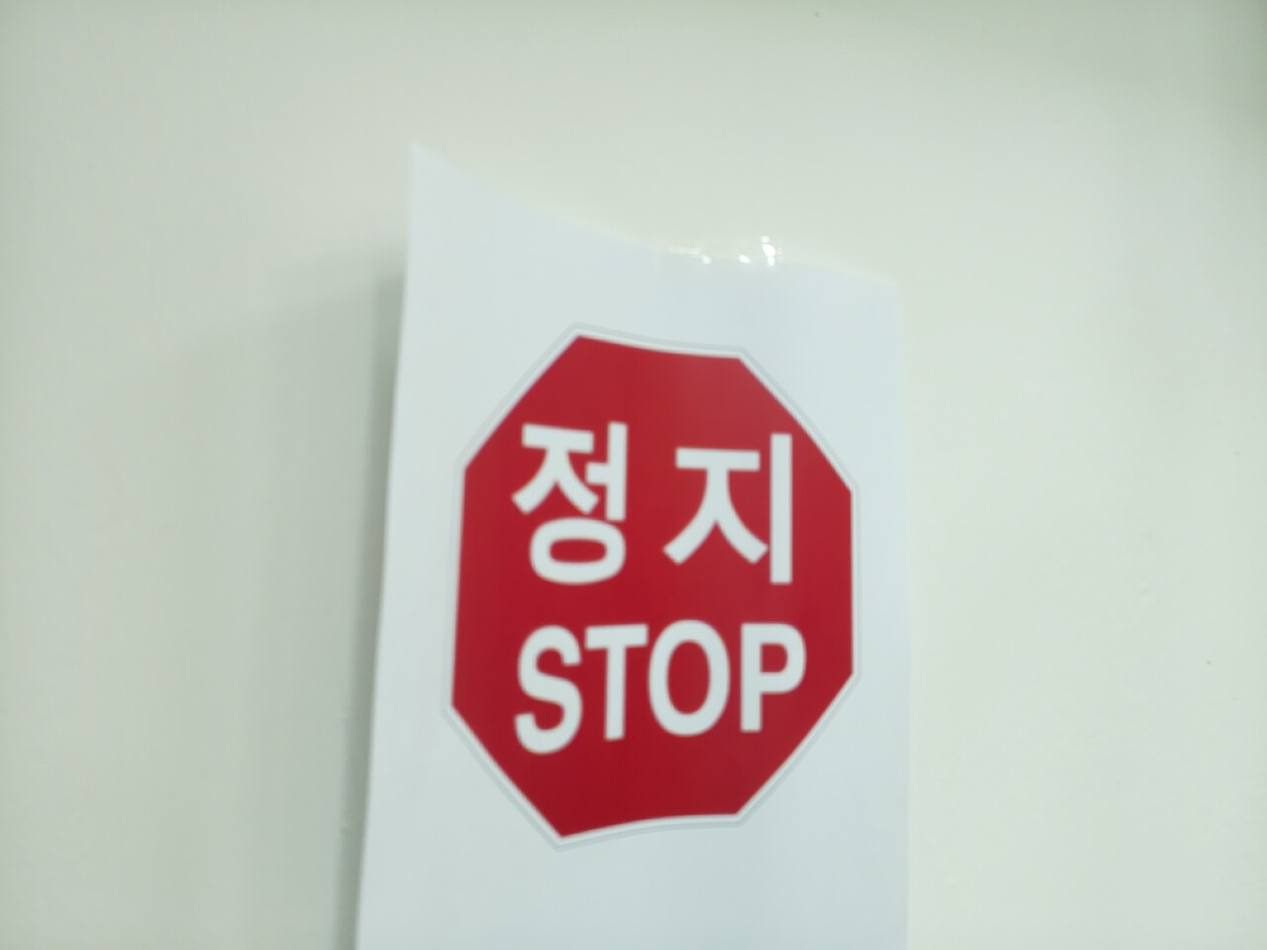stop: (439, 322, 865, 851)
